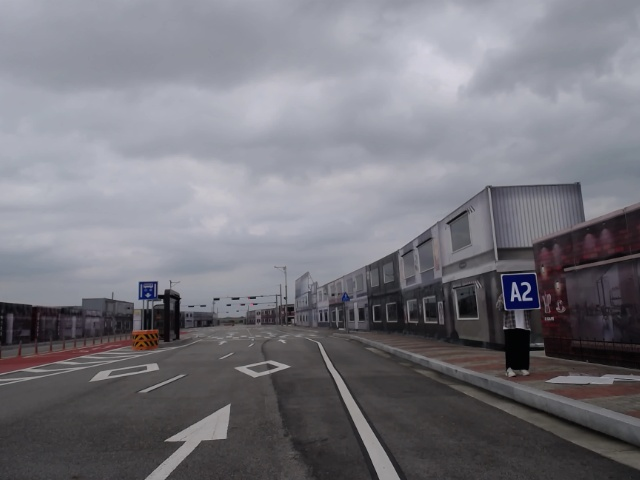delivery_a2: (501, 272, 540, 310)
